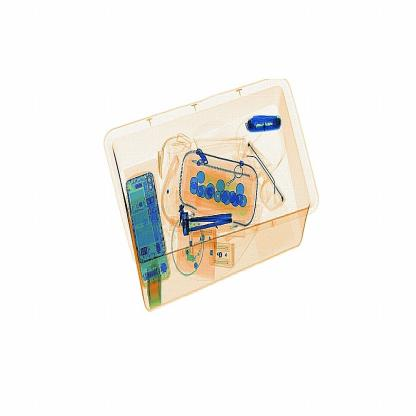scissors: (245, 116, 292, 136)
